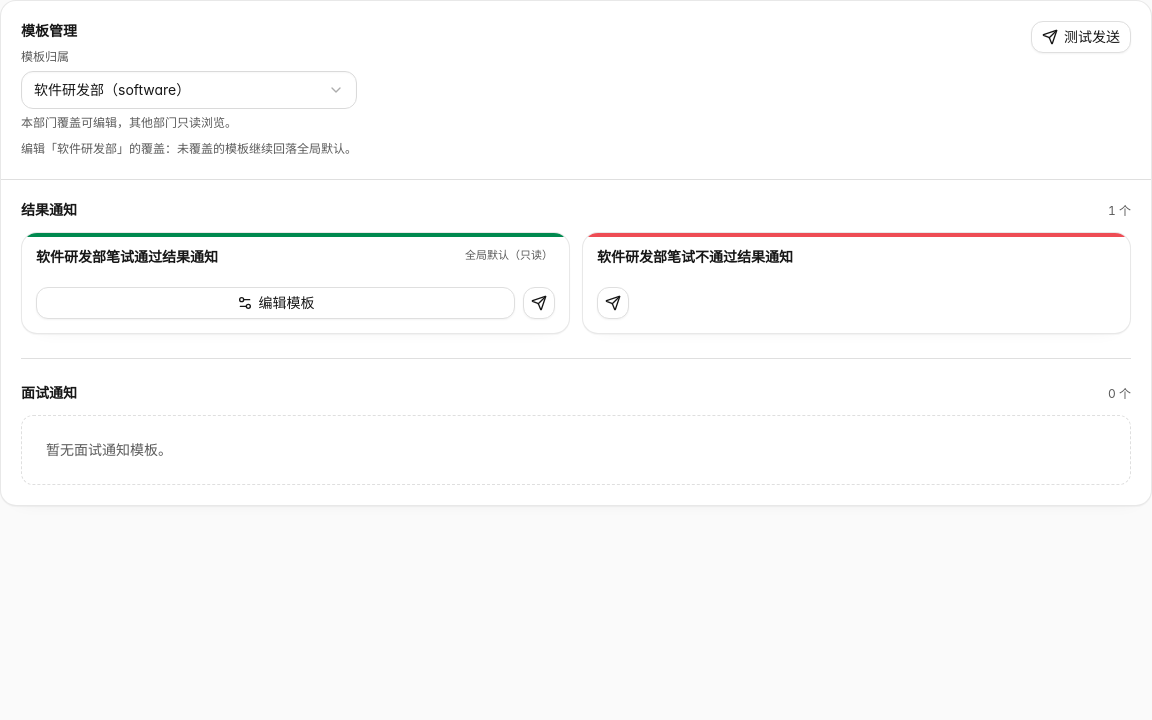
Scenario: EmailTemplateManagementSection › 部门账号的保存按钮写明写入本部门覆盖
The image size is (1152, 720).
Click the button "编辑模板" at (276, 303), box x1=36 y1=287 x2=515 y2=319
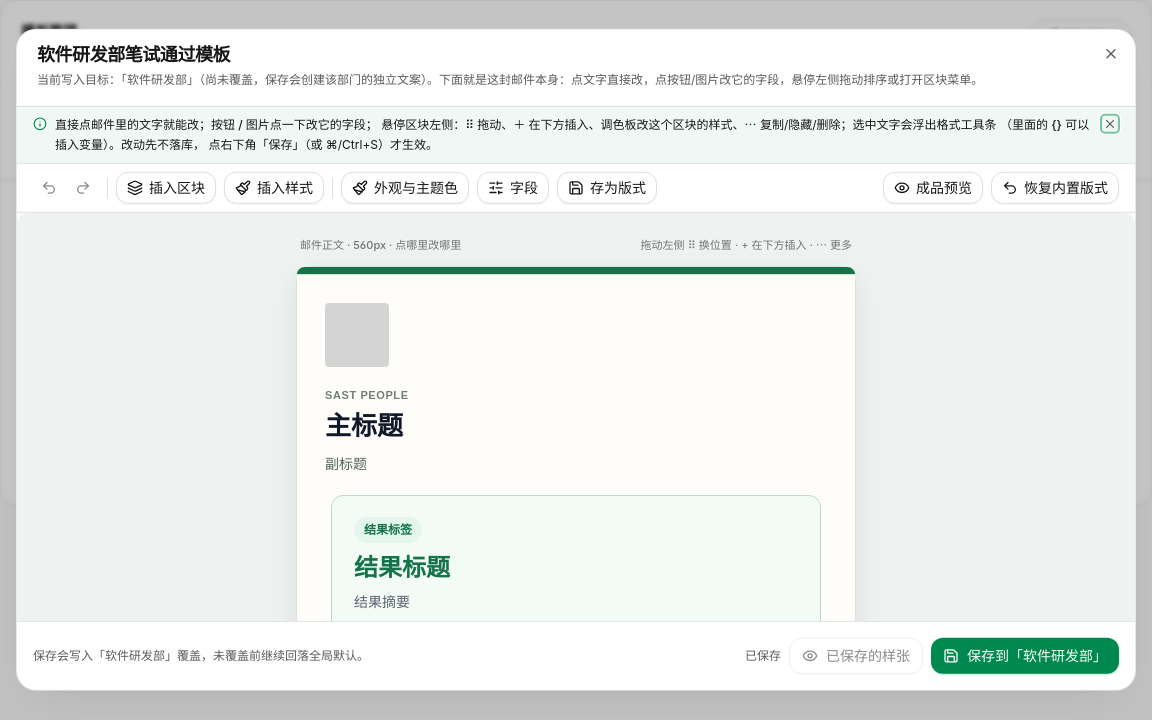
Expected: the button "保存到「软件研发部」" is shown, x1=931 y1=638 x2=1119 y2=674
